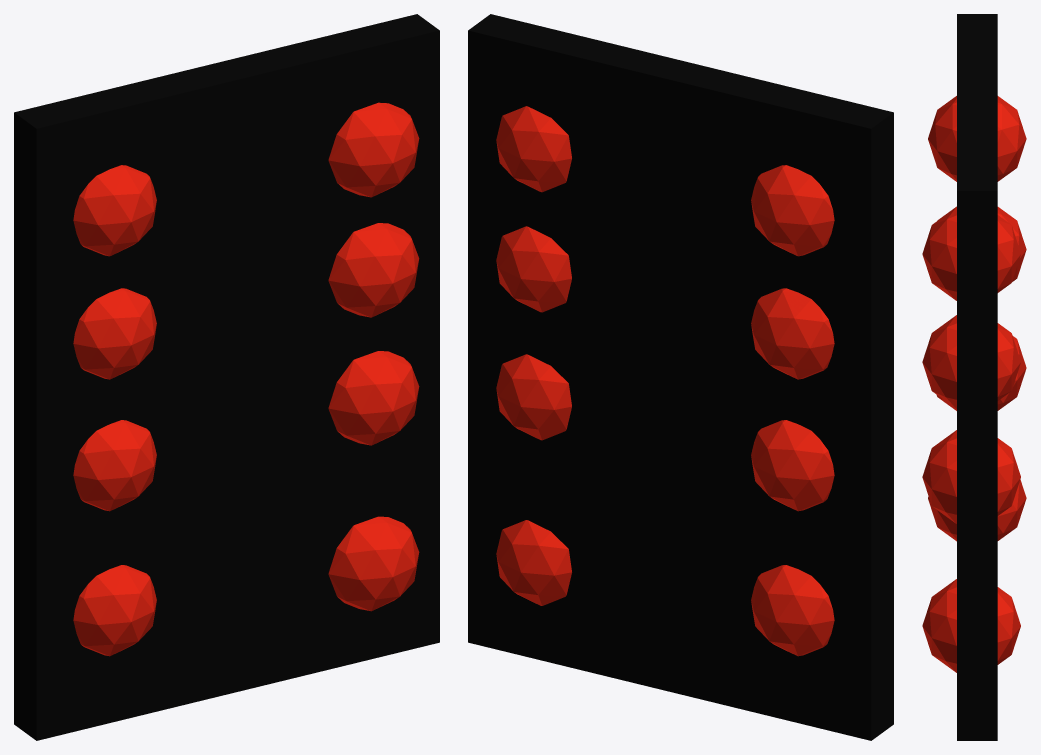
File: Elevador.fbx
The picture shows the model from 3 angles, left to right: view 1: azimuth 30°, elevation 25°; view 2: azimuth 150°, elevation 25°; view 3: azimuth 270°, elevation 25°; orthographic projection. The views are drawn at different scales.
Visible parts, largest first — view 1: Cube; view 2: Cube; view 3: Cube.
Boxes of the visible parts, x1,y1,x2,y2 form: Cube: (14, 14, 439, 740); Cube: (468, 14, 893, 740); Cube: (922, 14, 1026, 740).
Bounding box in the file's own units: 84.43 × 122 × 21.04.
